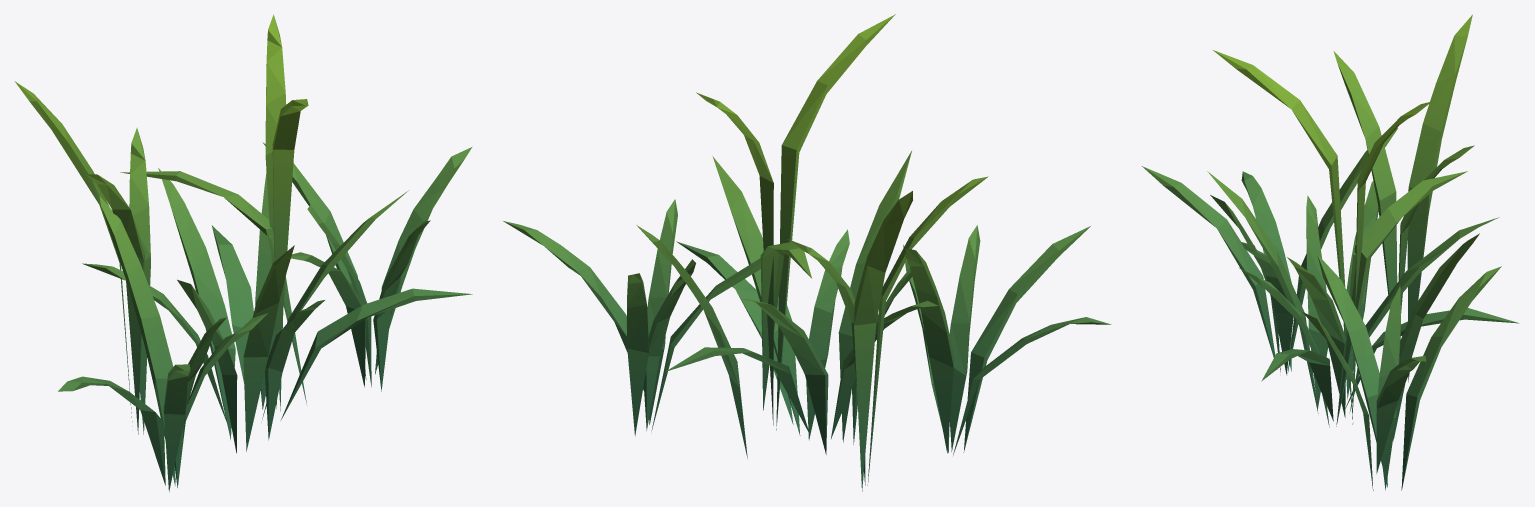
File: ZLP_Grass_B_4.FBX
The picture shows the model from 3 angles, left to right: view 1: azimuth 30°, elevation 25°; view 2: azimuth 150°, elevation 25°; view 3: azimuth 270°, elevation 25°; orthographic projection. The views are drawn at different scales.
Parts seen in each view (by area): view 1: ZLP_Grass_B_4; view 2: ZLP_Grass_B_4; view 3: ZLP_Grass_B_4.
Boxes of the visible parts, box(x1,y1,x2,y2) form: ZLP_Grass_B_4: box(14, 14, 472, 491); ZLP_Grass_B_4: box(503, 14, 1111, 491); ZLP_Grass_B_4: box(1142, 14, 1519, 490).
Size of the model in its own units: 227 by 165 by 153.
